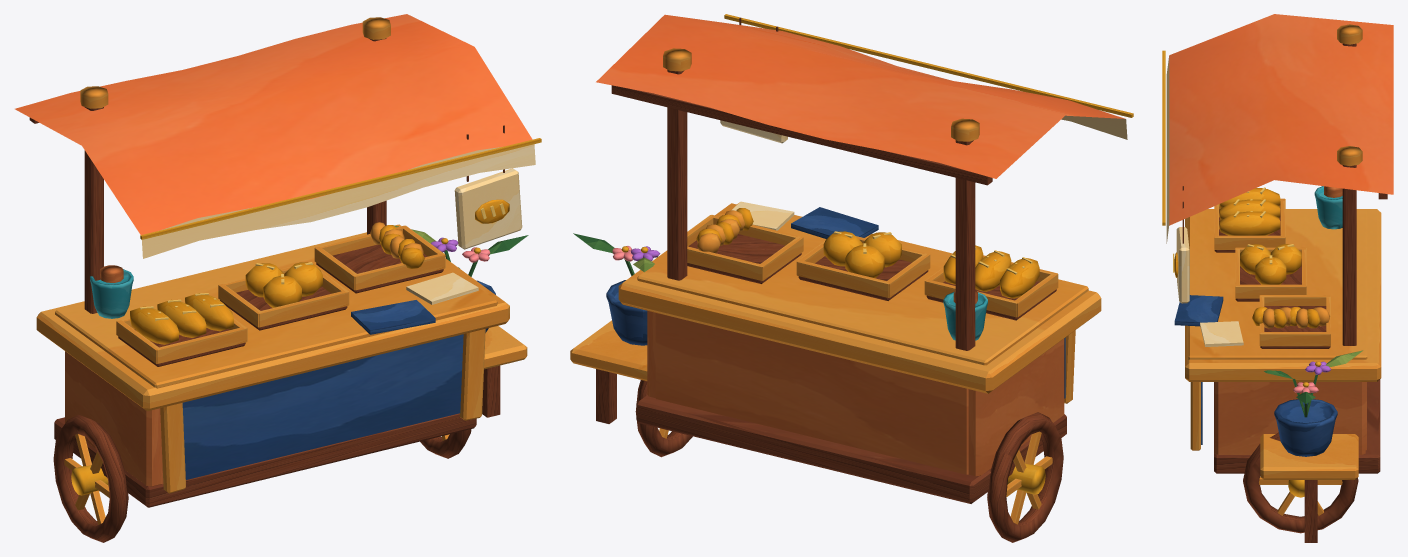
The model's file is ghibli_poster_bread_cart_editable_parts.glb.
3 renders of one model, left to right at view 1: azimuth 30°, elevation 25°; view 2: azimuth 150°, elevation 25°; view 3: azimuth 270°, elevation 25°, orthographic. The views are drawn at different scales.
Parts seen in each view (by area): view 1: 035 Quiet whole-canopy poster pigment mass, 006 Front hand-painted apron, 002 Bread display counter, 001 Counter golden edge, 036 Simple cream poster valance, 000 Cart underframe, 004 Cart side storage wall, 013 Cart wooden wheel, 083 Bakery hanging sign, 030 Awning post, 037 Canopy front hem rod, 007 Apron framing board (+24 smaller); view 2: 035 Quiet whole-canopy poster pigment mass, 003 Deep storage back, 002 Bread display counter, 001 Counter golden edge, 000 Cart underframe, 004 Cart side storage wall, 013 Cart wooden wheel, 034 Awning rear spreader, 030 Awning post, 032 Awning post, 090 Asymmetric planter shelf, 037 Canopy front hem rod (+24 smaller); view 3: 035 Quiet whole-canopy poster pigment mass, 002 Bread display counter, 005 Cart side storage wall, 001 Counter golden edge, 090 Asymmetric planter shelf, 092 Blue herb planter, 021 Cart wooden wheel, 032 Awning post, 000 Cart underframe, 051 Golden baguette, 079 Folded indigo tea towel, 068 Pastry tray side (+19 smaller).
Boxes of the visible parts, left/top/right/bottom form: 035 Quiet whole-canopy poster pigment mass: left=15, top=14, right=532, bottom=234; 006 Front hand-painted apron: left=182, top=334, right=463, bottom=479; 002 Bread display counter: left=55, top=234, right=497, bottom=388; 001 Counter golden edge: left=36, top=224, right=509, bottom=411; 036 Simple cream poster valance: left=142, top=144, right=535, bottom=258; 000 Cart underframe: left=54, top=413, right=476, bottom=507; 004 Cart side storage wall: left=65, top=351, right=162, bottom=486; 013 Cart wooden wheel: left=53, top=414, right=128, bottom=542; 083 Bakery hanging sign: left=454, top=168, right=522, bottom=249; 030 Awning post: left=84, top=107, right=103, bottom=313; 037 Canopy front hem rod: left=140, top=138, right=541, bottom=239; 007 Apron framing board: left=160, top=403, right=185, bottom=493; 035 Quiet whole-canopy poster pigment mass: left=596, top=14, right=1125, bottom=178; 003 Deep storage back: left=655, top=313, right=968, bottom=474; 002 Bread display counter: left=637, top=202, right=1088, bottom=365; 001 Counter golden edge: left=618, top=203, right=1101, bottom=393; 000 Cart underframe: left=636, top=395, right=1066, bottom=503; 004 Cart side storage wall: left=968, top=338, right=1064, bottom=476; 013 Cart wooden wheel: left=987, top=412, right=1063, bottom=542; 034 Awning rear spreader: left=611, top=85, right=992, bottom=185; 030 Awning post: left=955, top=140, right=975, bottom=350; 032 Awning post: left=667, top=69, right=687, bottom=280; 090 Asymmetric planter shelf: left=570, top=320, right=647, bottom=381; 037 Canopy front hem rod: left=724, top=14, right=1133, bottom=117; 035 Quiet whole-canopy poster pigment mass: left=1169, top=14, right=1393, bottom=225; 002 Bread display counter: left=1188, top=209, right=1367, bottom=359; 005 Cart side storage wall: left=1214, top=382, right=1365, bottom=454; 001 Counter golden edge: left=1185, top=209, right=1381, bottom=381; 090 Asymmetric planter shelf: left=1260, top=434, right=1358, bottom=479; 092 Blue herb planter: left=1274, top=399, right=1337, bottom=456; 021 Cart wooden wheel: left=1243, top=432, right=1358, bottom=533; 032 Awning post: left=1342, top=165, right=1356, bottom=345; 000 Cart underframe: left=1214, top=379, right=1380, bottom=473; 051 Golden baguette: left=1219, top=211, right=1280, bottom=235; 079 Folded indigo tea towel: left=1174, top=295, right=1223, bottom=326; 068 Pastry tray side: left=1260, top=332, right=1330, bottom=346.
Size of the model in its own units: 2.72 by 2.32 by 1.32.
3 materials, 3 textured.
